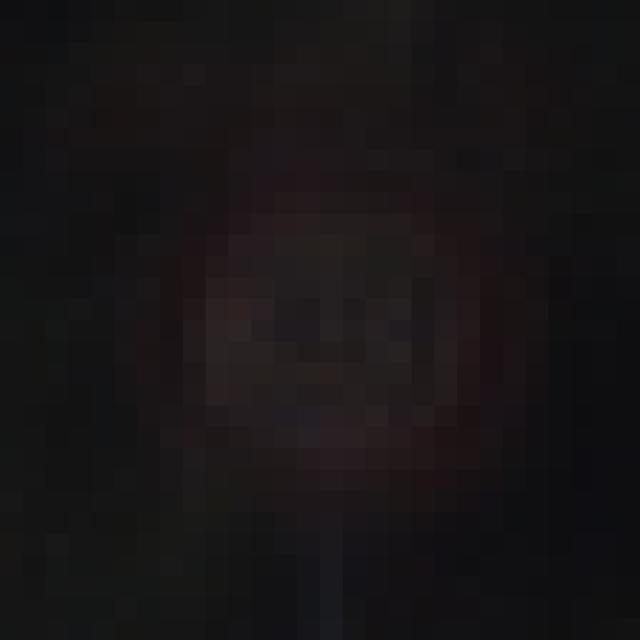Speed Limit -30-: (102, 117, 514, 523)
